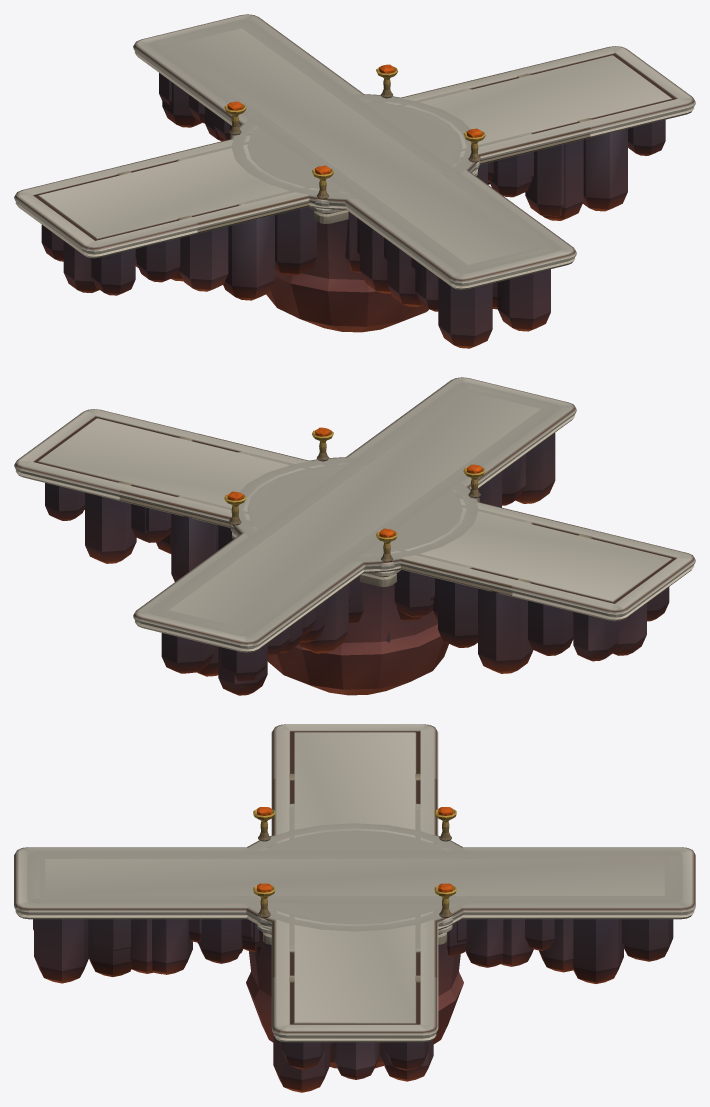
File: volcano-2-9hlgGQpV.glb
3 renders of one model, top to bottom at view 1: azimuth 30°, elevation 25°; view 2: azimuth 150°, elevation 25°; view 3: azimuth 270°, elevation 25°, orthographic. The views are drawn at different scales.
Parts seen in each view (by area): view 1: block_44x2x10#0, block_8x2x40_grate#0, block_9x2x41#0, disc_16x1.5#1, block_30x2x10_column#1, pad_12x2x12#1, block_21.5x2x9#0; view 2: block_44x2x10#0, block_8x2x40_grate#0, block_9x2x41#0, disc_16x1.5#1, block_30x2x10_column#1, pad_12x2x12#1, block_21.5x2x9#0, block_8x2x30_grate#0; view 3: block_44x2x10#0, block_8x2x40_grate#0, block_9x2x41#0, disc_16x1.5#1, block_8x2x30_grate#0, pad_12x2x12#1, block_30x2x10_column#1, block_21.5x2x9#0.
Boxes of the visible parts, left/top/right/bottom form: block_44x2x10#0: left=14, top=46, right=695, bottom=300; block_8x2x40_grate#0: left=149, top=19, right=560, bottom=309; block_9x2x41#0: left=133, top=14, right=576, bottom=348; disc_16x1.5#1: left=230, top=94, right=480, bottom=332; block_30x2x10_column#1: left=116, top=70, right=592, bottom=281; pad_12x2x12#1: left=224, top=64, right=485, bottom=223; block_21.5x2x9#0: left=176, top=88, right=532, bottom=205; block_44x2x10#0: left=14, top=409, right=695, bottom=661; block_8x2x40_grate#0: left=149, top=382, right=560, bottom=695; block_9x2x41#0: left=133, top=377, right=576, bottom=680; disc_16x1.5#1: left=229, top=457, right=479, bottom=695; block_30x2x10_column#1: left=117, top=433, right=593, bottom=673; pad_12x2x12#1: left=224, top=427, right=485, bottom=642; block_21.5x2x9#0: left=177, top=451, right=533, bottom=620; block_8x2x30_grate#0: left=279, top=471, right=503, bottom=653; block_44x2x10#0: left=271, top=724, right=438, bottom=1092; block_8x2x40_grate#0: left=27, top=851, right=682, bottom=976; block_9x2x41#0: left=14, top=847, right=695, bottom=983; disc_16x1.5#1: left=236, top=823, right=473, bottom=1068; block_8x2x30_grate#0: left=130, top=919, right=573, bottom=973; pad_12x2x12#1: left=253, top=807, right=456, bottom=944; block_30x2x10_column#1: left=272, top=773, right=437, bottom=983; block_21.5x2x9#0: left=289, top=803, right=420, bottom=953.
Bounding box in the file's own units: 44 × 13.81 × 41.
